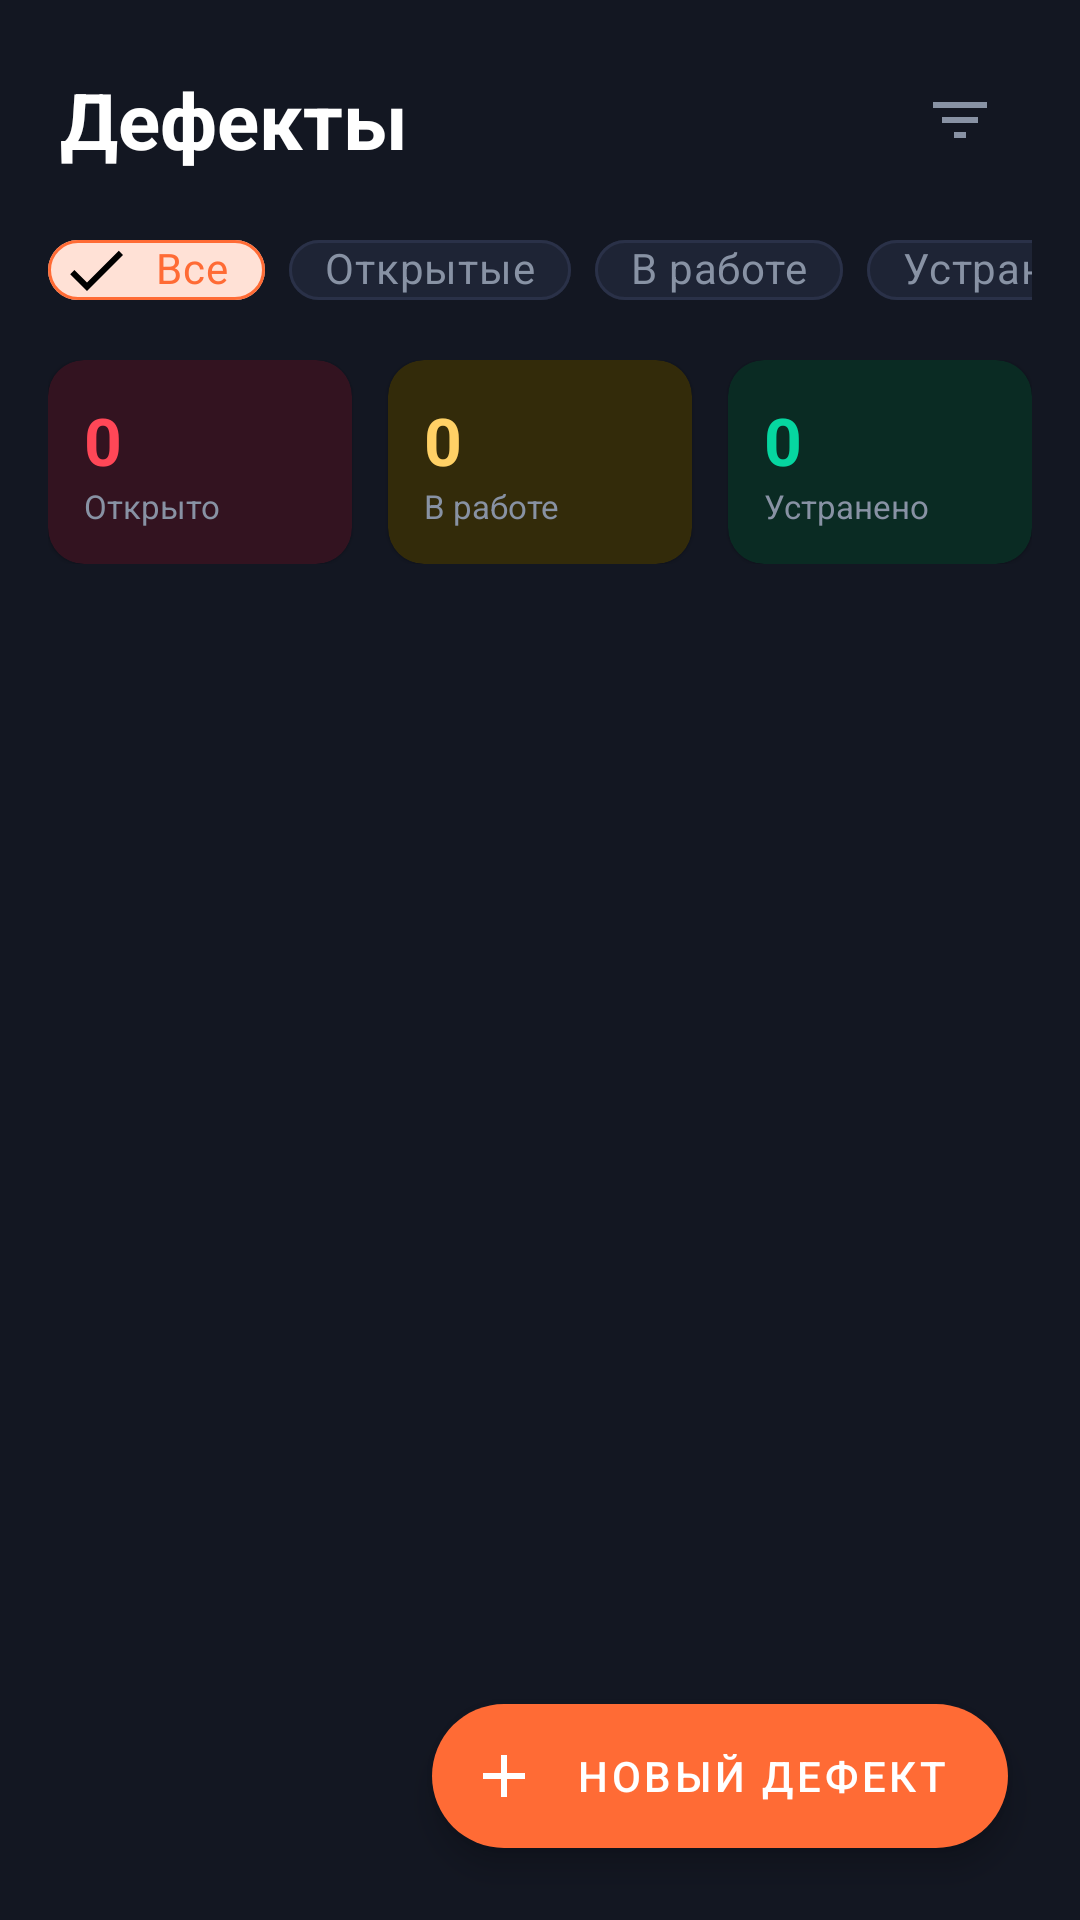

Screen size 1080px x 1920px. Icon name, then its box in pixels as [x1=x1, y1=y1, x2=x2, y2=y2]:
filter: [x1=933, y1=102, x2=987, y2=138]
